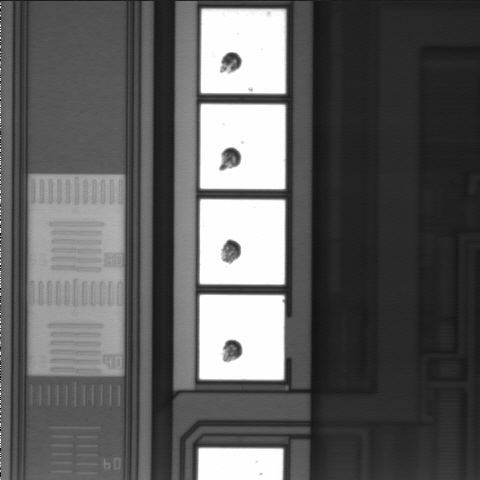pad: (200, 199, 285, 285), (201, 9, 286, 94), (200, 104, 285, 189), (199, 295, 284, 380)
